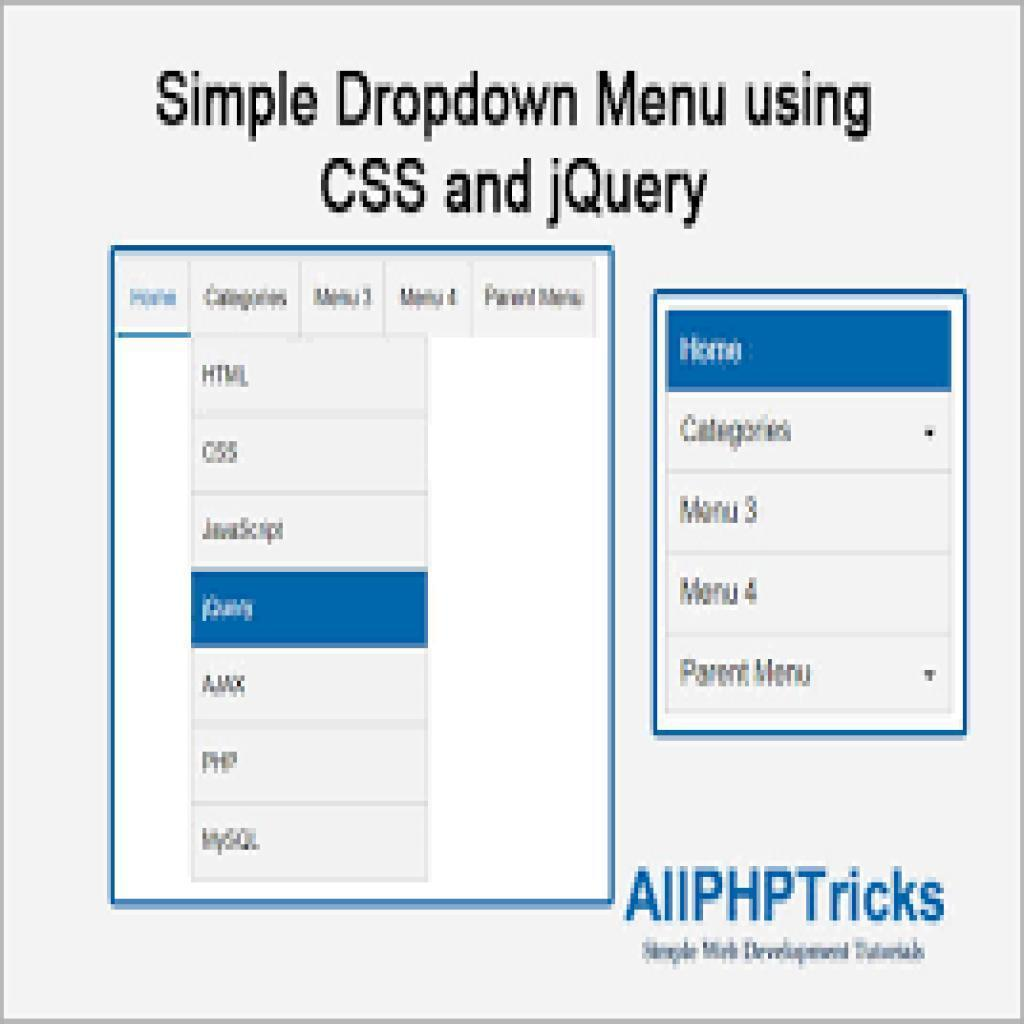button: (667, 309, 953, 390), (190, 567, 430, 648)
dropdown: (665, 638, 951, 715), (669, 391, 947, 466)
